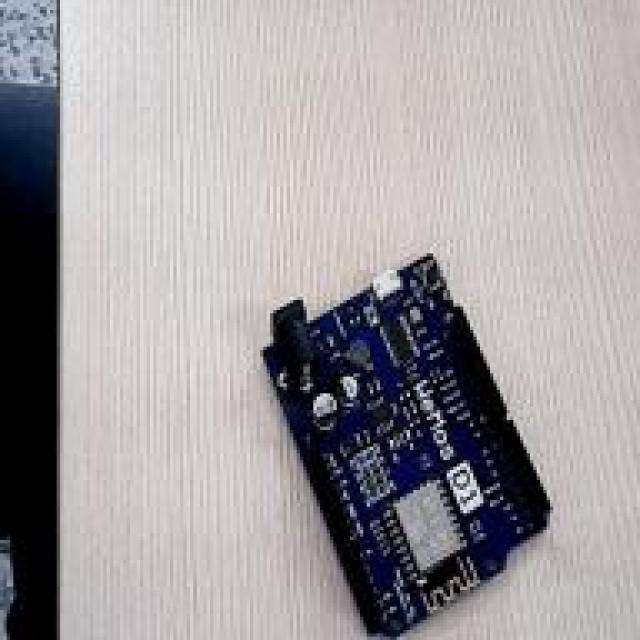Wemos: (264, 258, 548, 634)
